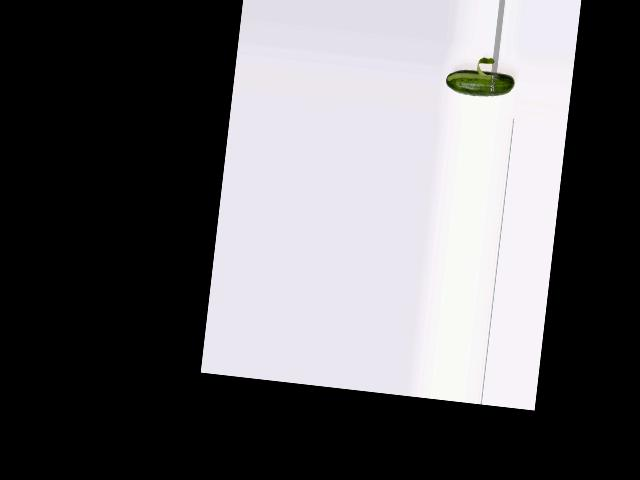cucumber: (444, 66, 515, 99)
